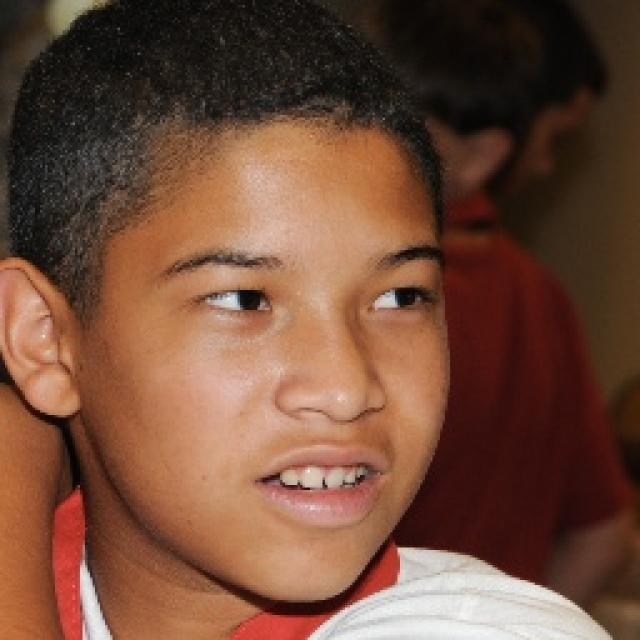earlobe: (34, 362, 84, 418)
eye: (198, 287, 274, 317), (367, 288, 436, 315)
nose: (282, 402, 398, 458)
wholeear: (0, 256, 85, 418)
